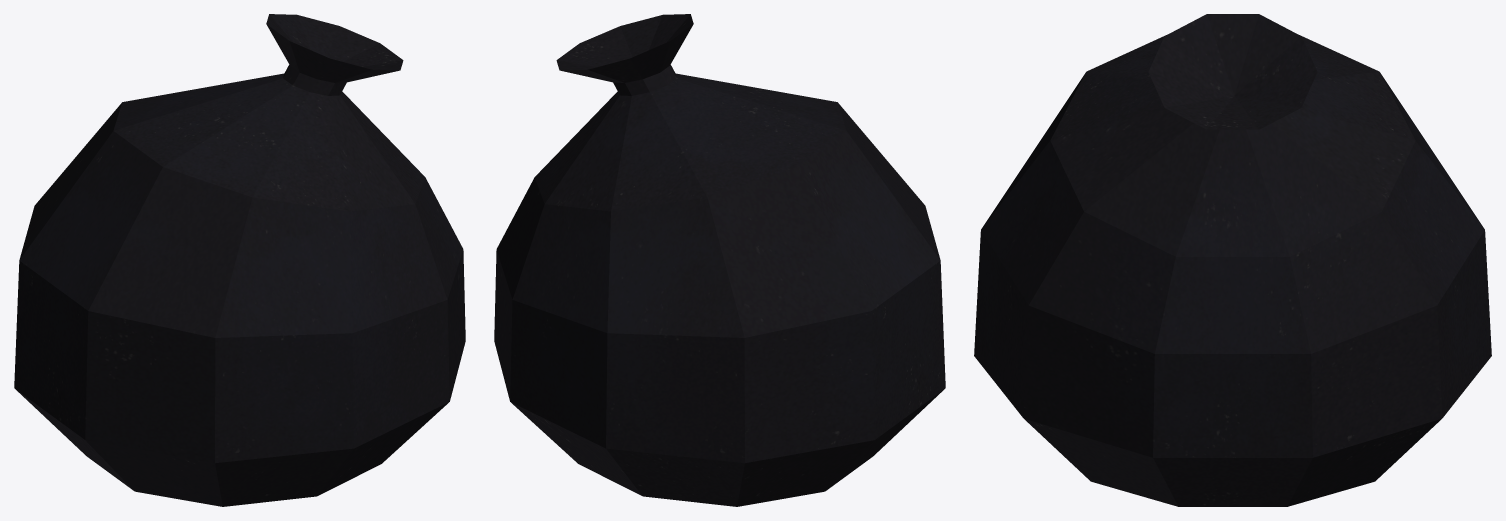
The model's file is TrashBag3.fbx.
The picture shows the model from 3 angles, left to right: view 1: azimuth 30°, elevation 25°; view 2: azimuth 150°, elevation 25°; view 3: azimuth 270°, elevation 25°; orthographic projection. The views are drawn at different scales.
Parts seen in each view (by area): view 1: Trashbag3; view 2: Trashbag3; view 3: Trashbag3.
Part boxes in pixels (left/top/right/bottom): Trashbag3: left=14, top=14, right=465, bottom=506; Trashbag3: left=494, top=14, right=945, bottom=506; Trashbag3: left=974, top=14, right=1491, bottom=506.
Size of the model in its own units: 35.14 by 36.77 by 36.27.
